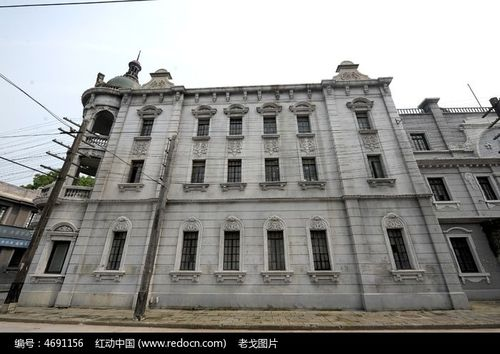buildings: (22, 57, 450, 301)
